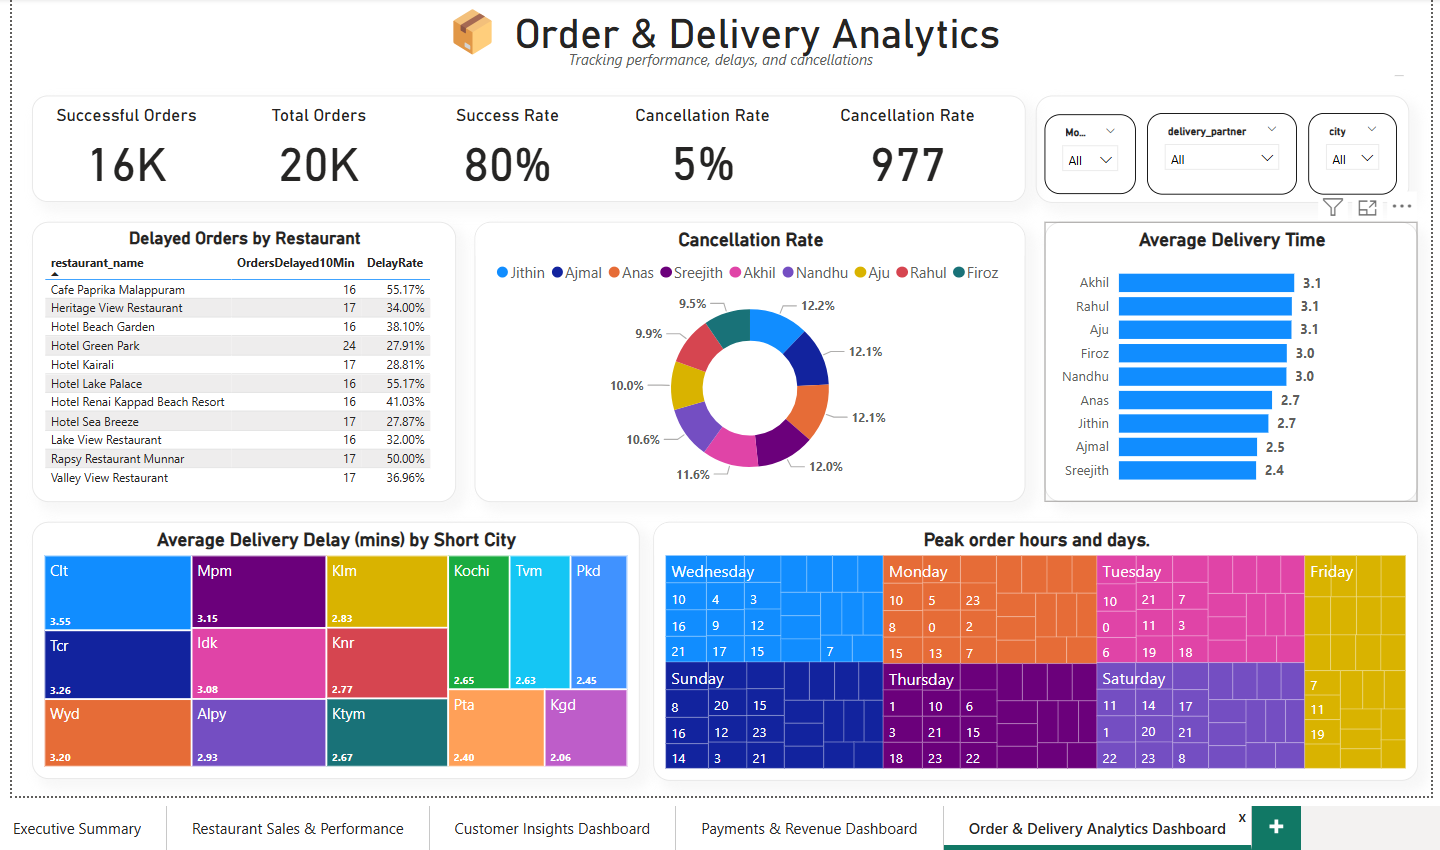

This screenshot's page, from the dashboard's own definition file:
{"tool":"powerbi","page":{"name":" Order & Delivery Analytics Dashboard","canvas":[1280,720],"ordinal":4},"visuals":[{"type":"shape","box":[923.1,87.9,337,96.9],"z":0},{"type":"shape","box":[18,87.9,896.1,95.8],"z":1000},{"type":"textbox","title":"📦 Order & Delivery Analytics","box":[18,0,1242.1,75.5],"z":2000},{"type":"barChart","title":" Average Delivery Time ","fields":{"Category":["public delivery.delivery_partner"],"Y":["DAX Table.Average Delivery Delay (mins)"]},"box":[931,201.8,337,252.5],"z":3000},{"type":"donutChart","title":"Cancellation Rate","fields":{"Y":["DAX Table.Cancellation Rate (%)"],"Category":["public delivery.delivery_partner"]},"box":[417,201.8,497.1,252.5],"z":4000},{"type":"treemap","fields":{"Group":["public customers.Short City"],"Values":["DAX Table.Average Delivery Delay (mins)"]},"box":[18,472.3,547.8,232.2],"z":5000},{"type":"tableEx","title":"Delayed Orders by Restaurant","fields":{"Values":["public restaurants.restaurant_name","DAX Table.OrdersDelayed10Min","DAX Table.DelayRate"]},"box":[18,201.8,382.1,252.5],"z":6000},{"type":"treemap","title":"Peak order hours and days.","fields":{"Values":["public orders.order_id"],"Group":["public orders.OrderDay"],"Details":["public orders.OrderHour"]},"box":[578.2,472.3,689.8,233.3],"z":7000},{"type":"card","title":"Total Orders","fields":{"Values":["DAX Table.Total Orders"]},"box":[207.4,96.9,138.6,80],"z":8000},{"type":"card","title":"Successful Orders","fields":{"Values":["DAX Table.Successful Deliveries"]},"box":[31.6,96.9,143.1,80],"z":9000},{"type":"card","title":"Success Rate","fields":{"Values":["DAX Table.Delivery Success Rate (%)"]},"box":[378.7,96.9,136.4,80],"z":10000},{"type":"slicer","fields":{"Values":["public orders.order_datetime.Variation.Date Hierarchy.Month"]},"box":[931,104.4,82.3,72.1],"z":11000},{"type":"slicer","fields":{"Values":["public customers.city"]},"box":[1168.8,103.9,80,73.3],"z":12000},{"type":"slicer","fields":{"Values":["public delivery.delivery_partner"]},"box":[1023.4,103.9,135.3,73.3],"z":13000},{"type":"card","title":"Cancellation  Rate","fields":{"Values":["DAX Table.Cancellation Rate (%)"]},"box":[547.8,96.9,149.9,78.9],"z":14000},{"type":"card","title":"Cancellation  Rate","fields":{"Values":["DAX Table.Cancelled Orders"]},"box":[730.4,96.9,154.4,80],"z":15000}]}

Visuals, with their boxes on the page's 1280x720 design canvas (x1, y1, x2, y2). These are canvas units, not pixel positions in the 1440x850 screenshot, which may show the page scaled, cropped or inside an application window:
shape: l=923, t=88, r=1260, b=185
shape: l=18, t=88, r=914, b=184
"📦 Order & Delivery Analytics" textbox: l=18, t=0, r=1260, b=76
" Average Delivery Time " barChart: l=931, t=202, r=1268, b=454
"Cancellation Rate" donutChart: l=417, t=202, r=914, b=454
treemap - public customers.Short City x DAX Table.Average Delivery Delay (mins): l=18, t=472, r=566, b=704
"Delayed Orders by Restaurant" tableEx: l=18, t=202, r=400, b=454
"Peak order hours and days." treemap: l=578, t=472, r=1268, b=706
"Total Orders" card: l=207, t=97, r=346, b=177
"Successful Orders" card: l=32, t=97, r=175, b=177
"Success Rate" card: l=379, t=97, r=515, b=177
slicer - public orders.order_datetime.Variation.Date Hierarchy.Month: l=931, t=104, r=1013, b=176
slicer - public customers.city: l=1169, t=104, r=1249, b=177
slicer - public delivery.delivery_partner: l=1023, t=104, r=1159, b=177
"Cancellation  Rate" card: l=548, t=97, r=698, b=176
"Cancellation  Rate" card: l=730, t=97, r=885, b=177
